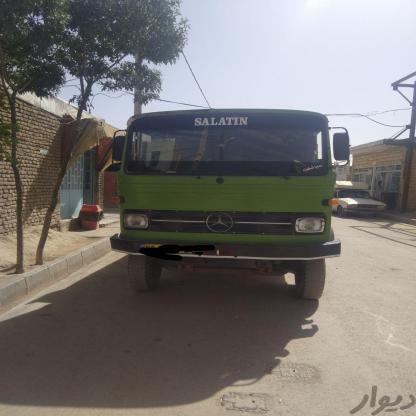Car: (332, 183, 398, 227)
Truck: (111, 102, 339, 308)
